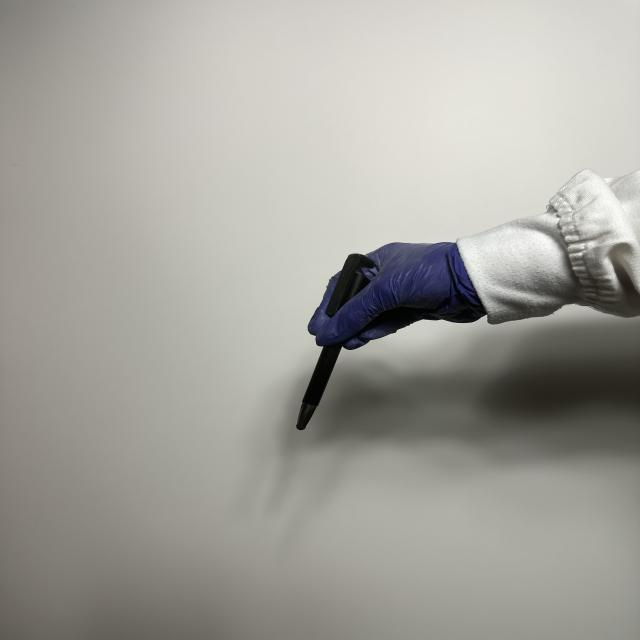gloves_contaminated: (308, 242, 486, 348)
